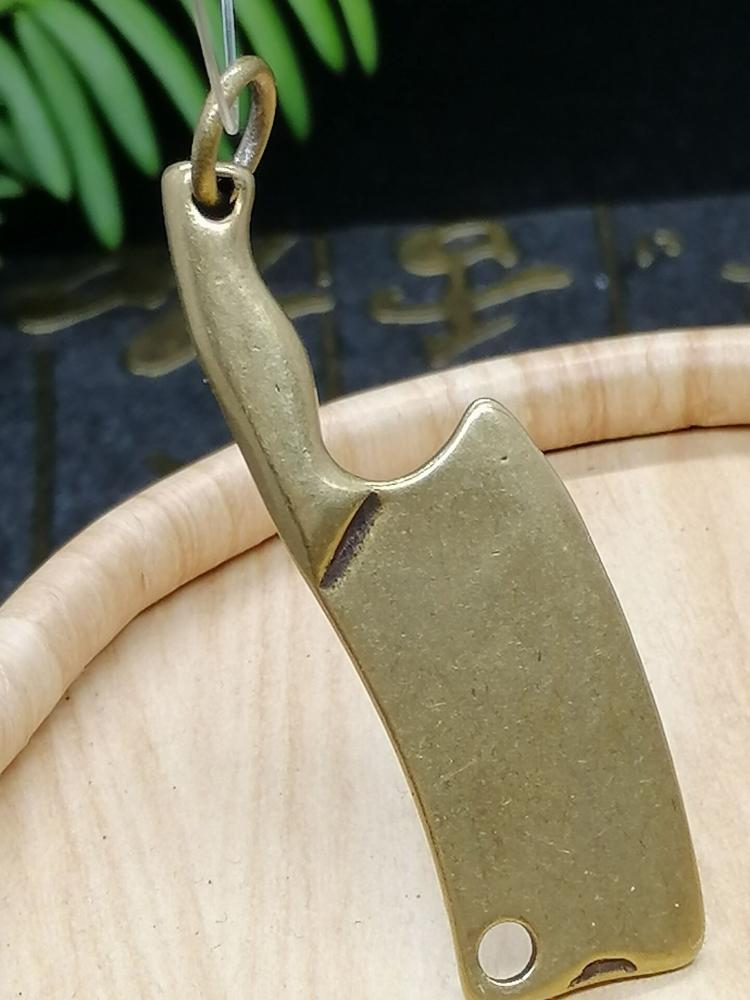knief: (158, 116, 705, 980)
